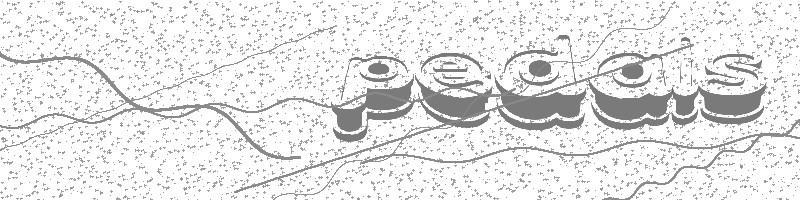a: (585, 49, 671, 132)
d: (483, 35, 588, 131)
e: (414, 50, 491, 129)
i: (667, 33, 699, 125)
p: (331, 49, 416, 144)
s: (694, 46, 766, 126)
